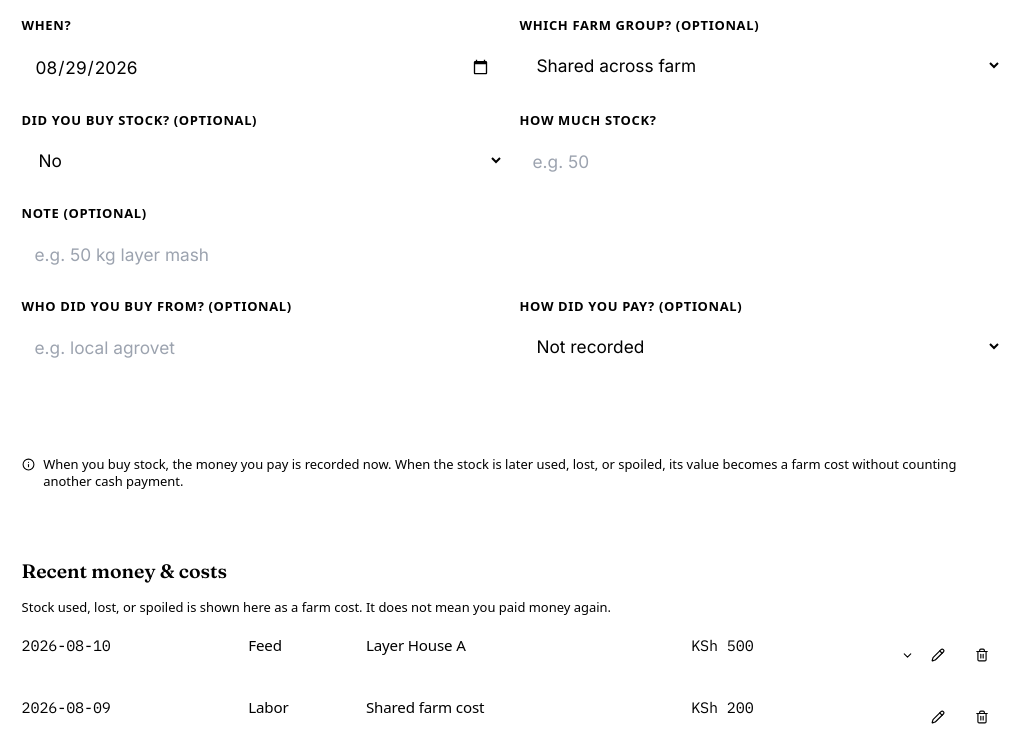
Test: ExpensesView — expandable rows with optional detail › clicking the same row again collapses it
The image size is (1024, 746).
(page scrolled)
Click the text "KSh 500". click: (66, 646)
box: [0,625,1023,686]
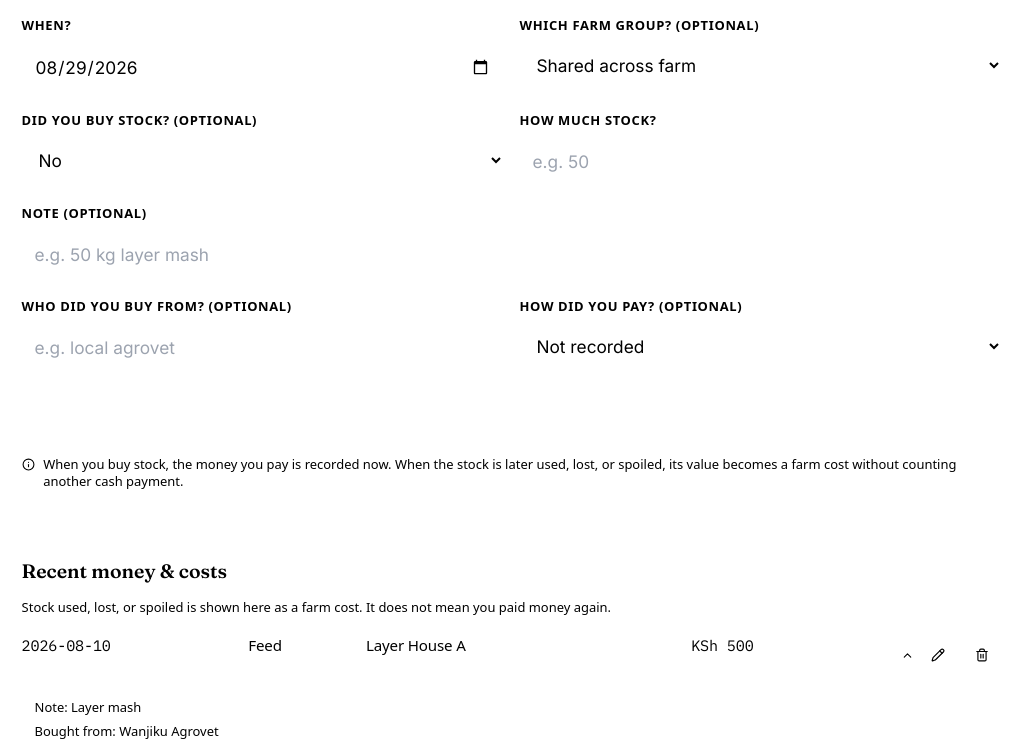
Now the text "Wanjiku Agrovet" is shown, box [119,722,219,740]
Click the text "KSh 500". click: (66, 646)
box: [0,625,1023,686]
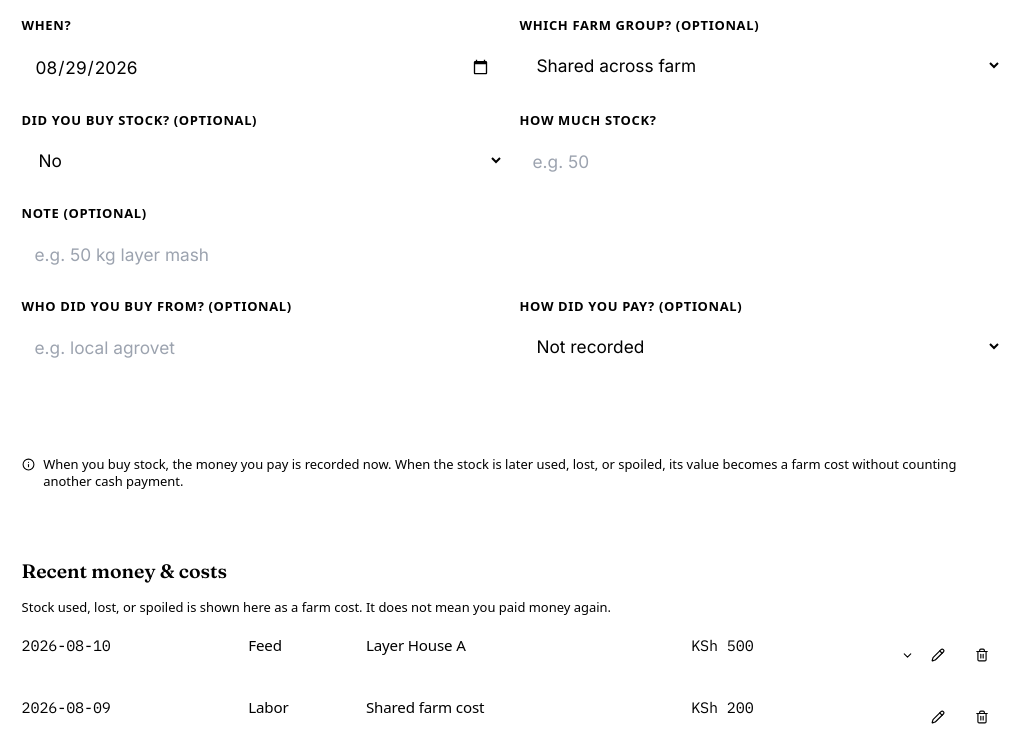
Now the text "Wanjiku Agrovet" is gone
